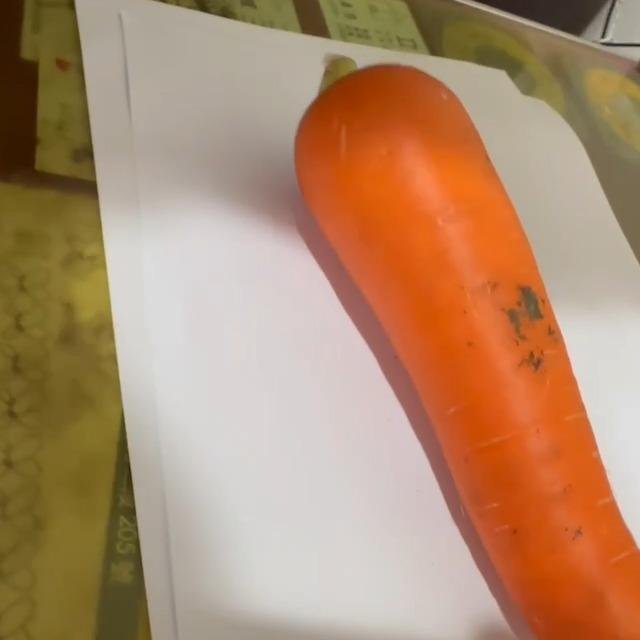carrot: (293, 55, 640, 640)
